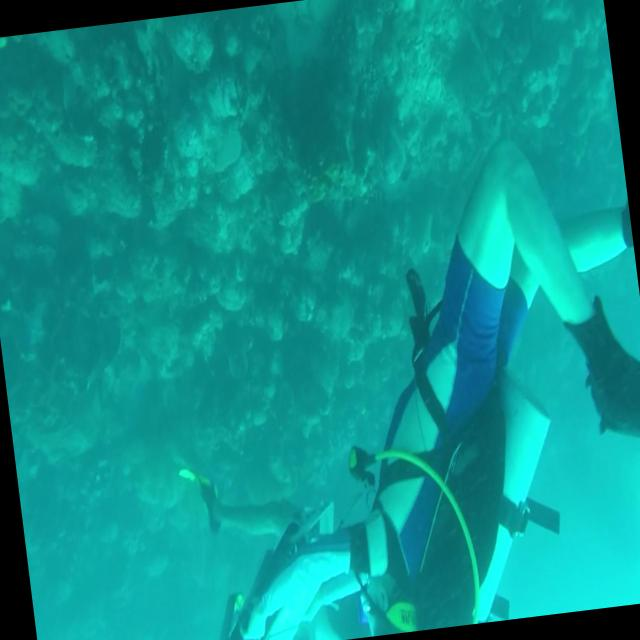human: (294, 52, 640, 637)
